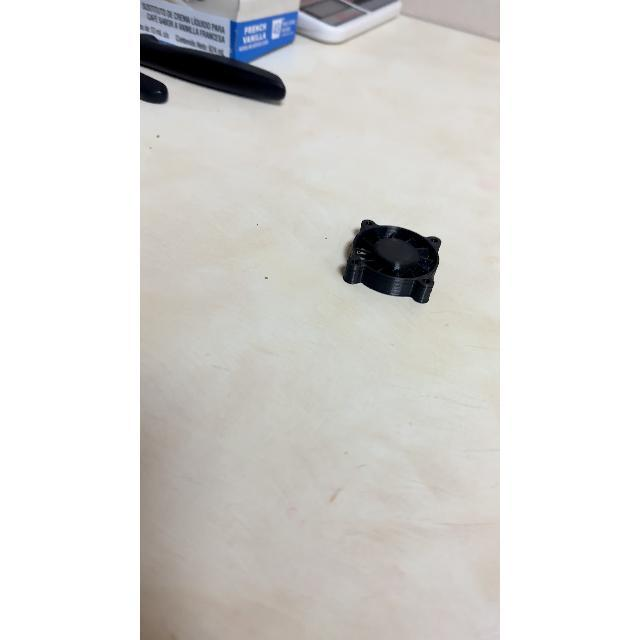Pieza4: (332, 194, 458, 326)
